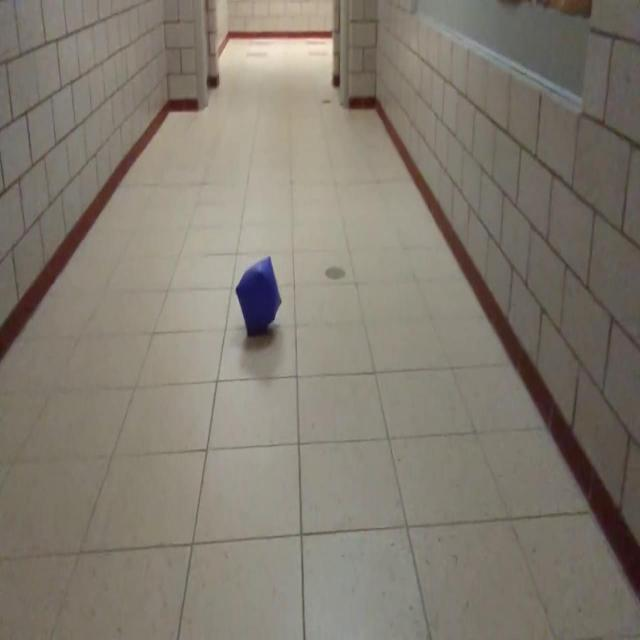frc_cube: (234, 252, 282, 340)
